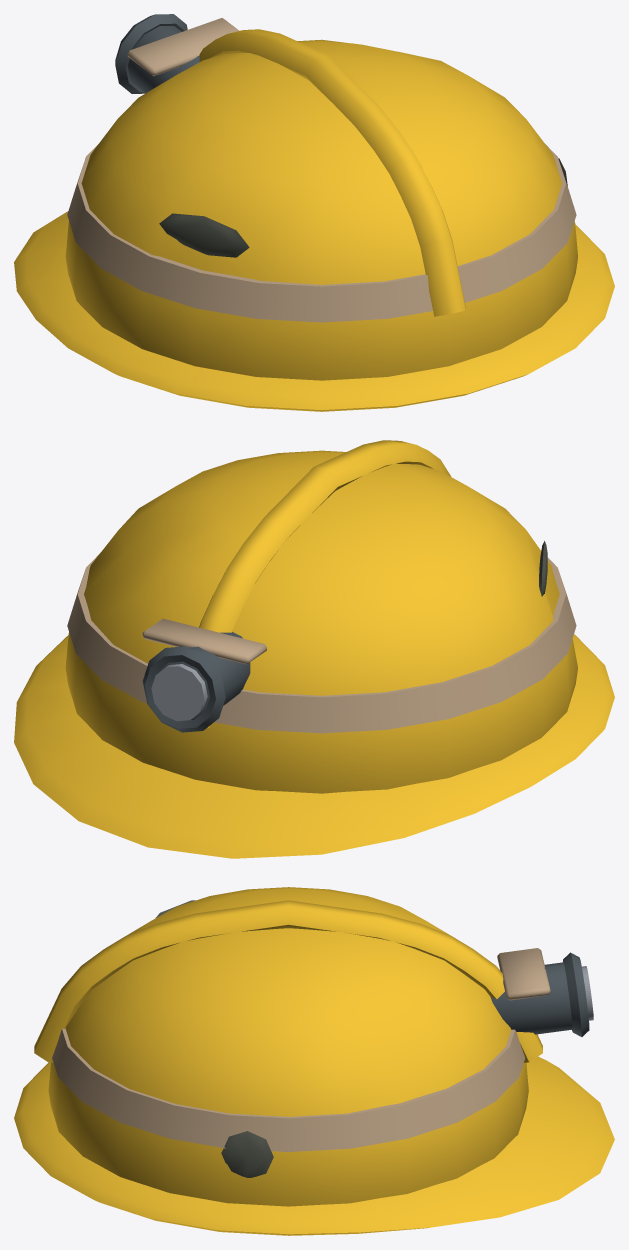
File: hat_hard_hat.glb
3 renders of one model, top to bottom at view 1: azimuth 30°, elevation 25°; view 2: azimuth 150°, elevation 25°; view 3: azimuth 270°, elevation 25°, orthographic. The views are drawn at different scales.
Visible parts, largest first — view 1: Hat; view 2: Hat; view 3: Hat.
Part boxes in pixels (<box>): Hat: <box>14,14,614,411</box>; Hat: <box>14,440,614,858</box>; Hat: <box>14,887,614,1235</box>.
Size of the model in its own units: 0.7411 by 0.3538 by 0.8107.
